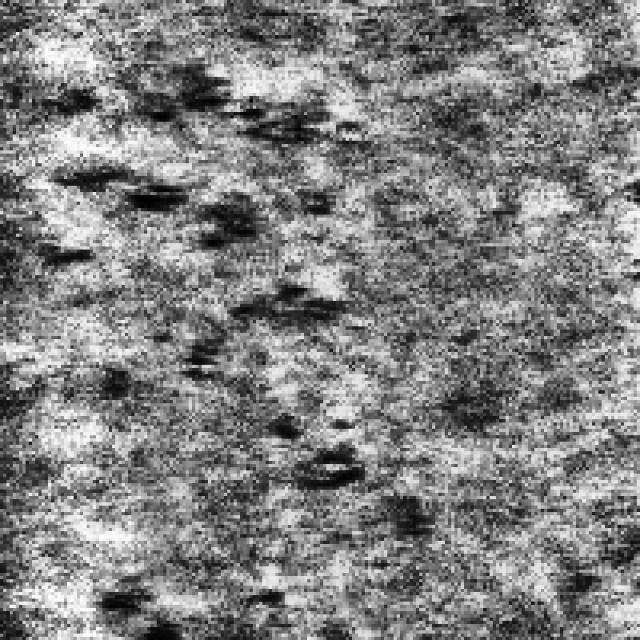Crazing: (179, 275, 371, 490), (39, 140, 324, 282), (105, 45, 348, 132), (92, 570, 182, 636)
